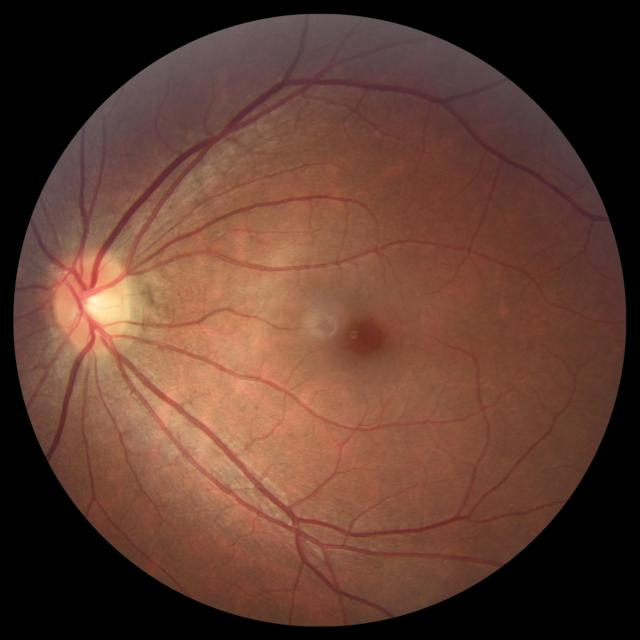OC: (72, 286, 112, 327)
OD: (54, 251, 134, 351)
